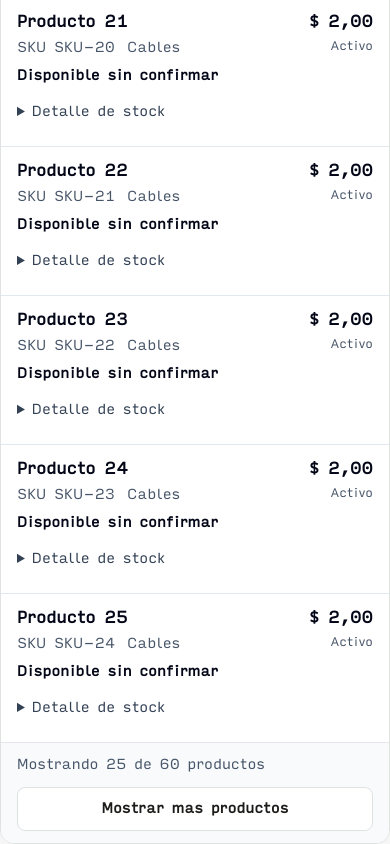
Test: progressive inventory rendering › loads more on demand without losing products
(page scrolled)
Click the button "Mostrar mas productos".
click(195, 809)  # box left=17, top=787, right=373, bottom=831
(page scrolled)
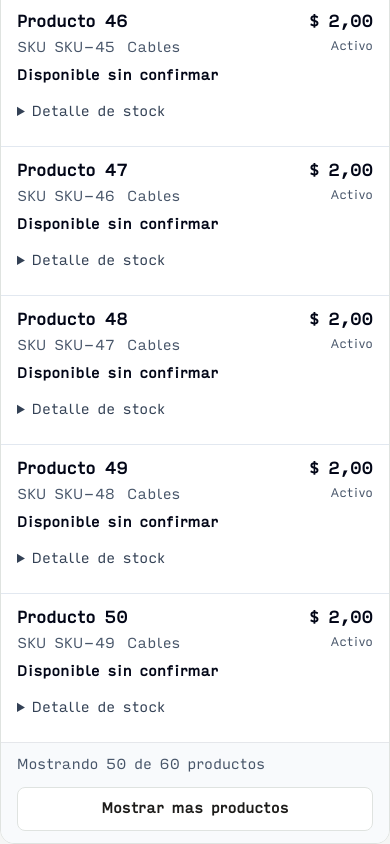
Now the text "Producto 50" is shown, box left=17, top=608, right=128, bottom=627
